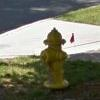Hydrant: (31, 22, 76, 100)
